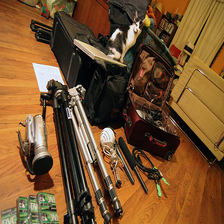laptop: (63, 44, 132, 73)
